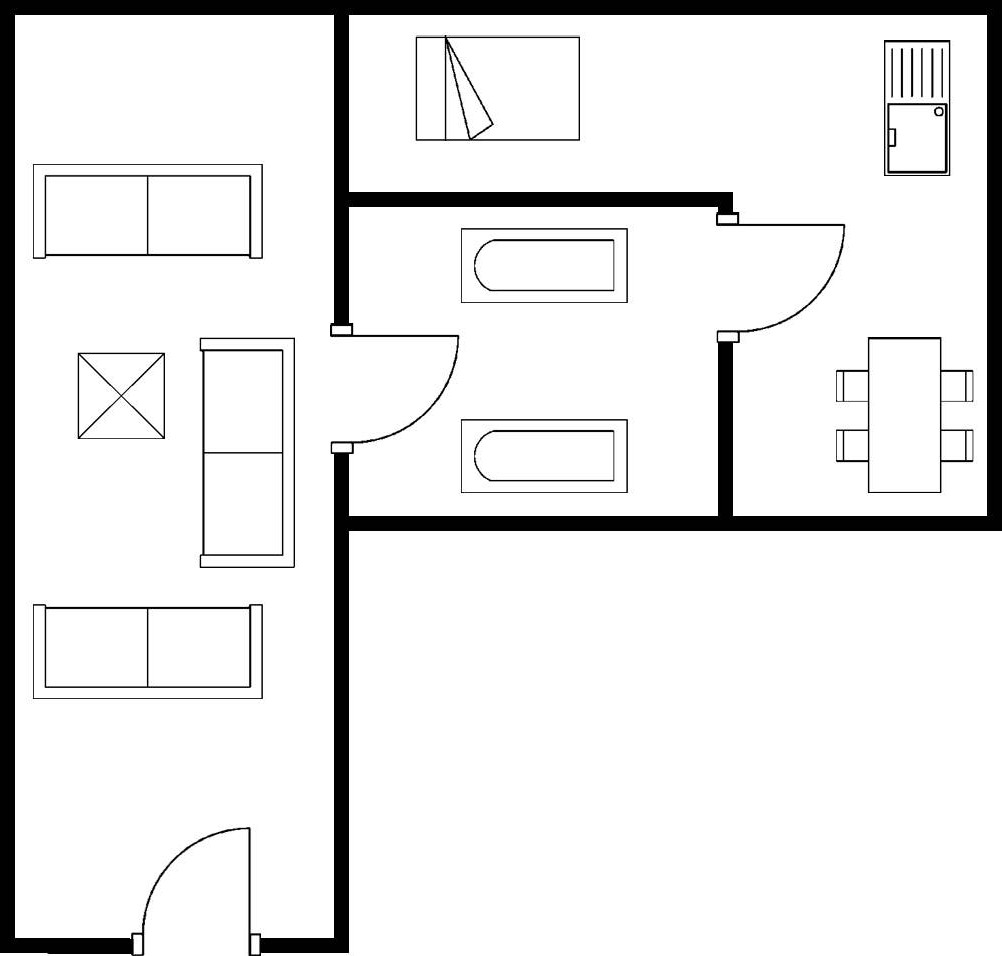bed: (409, 31, 585, 146)
coffee_table: (70, 348, 170, 445)
dining_table: (833, 333, 976, 497)
large_sofa: (190, 331, 301, 575), (26, 159, 266, 266), (27, 600, 268, 705)
sink: (877, 32, 954, 183)
tub: (455, 415, 633, 499), (457, 224, 634, 308)
